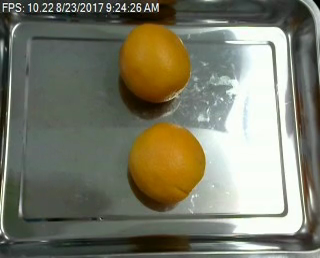Orange: (129, 123, 206, 202), (117, 22, 190, 102)
